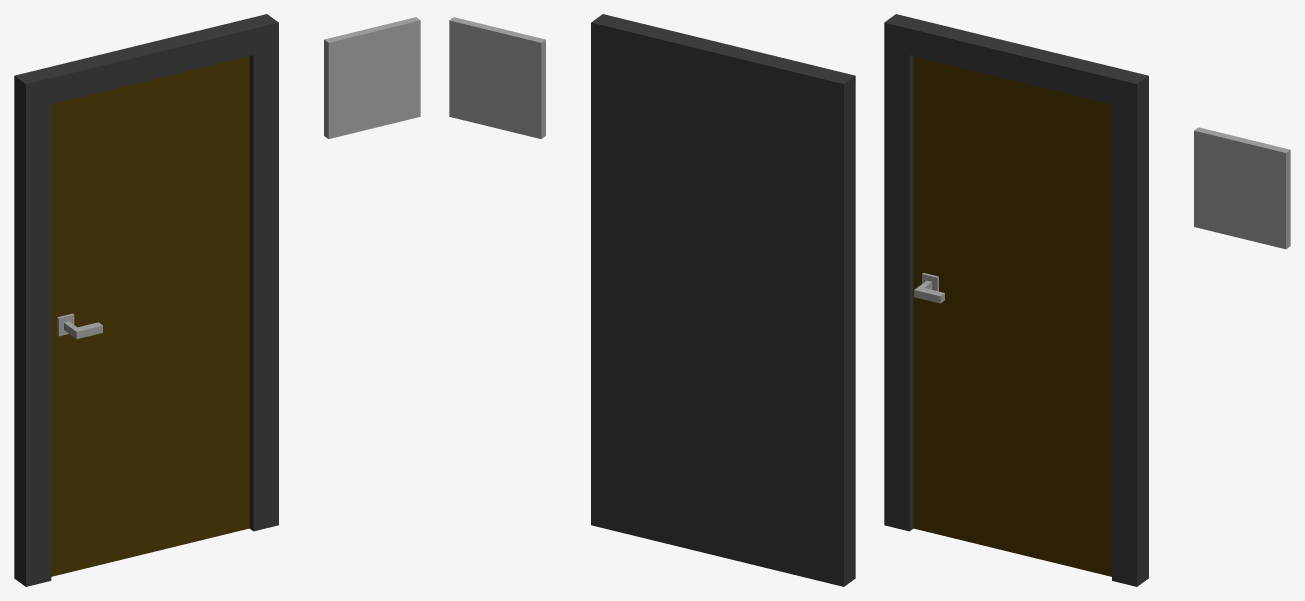
Rendered from banheiro.fbx.
The picture shows the model from 3 angles, left to right: view 1: azimuth 30°, elevation 25°; view 2: azimuth 150°, elevation 25°; view 3: azimuth 330°, elevation 25°; orthographic projection.
Visible parts, largest first — view 1: polySurface7; view 2: polySurface7; view 3: polySurface7.
Boxes of the visible parts, bbox=[...] form: polySurface7: bbox=[14, 14, 420, 586]; polySurface7: bbox=[449, 14, 855, 586]; polySurface7: bbox=[884, 14, 1290, 586].
Bounding box in the file's own units: 1.58 × 1.9 × 0.1514.
